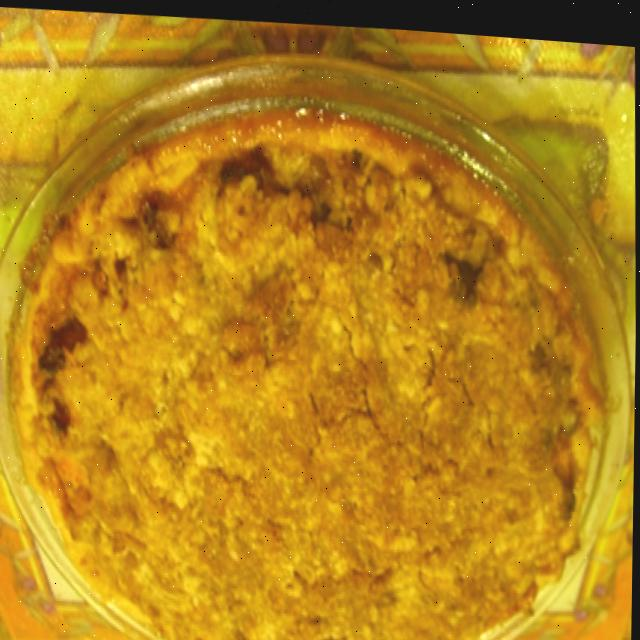炸货点心: (0, 12, 623, 640)
蛋糕甜品: (0, 12, 623, 640)
